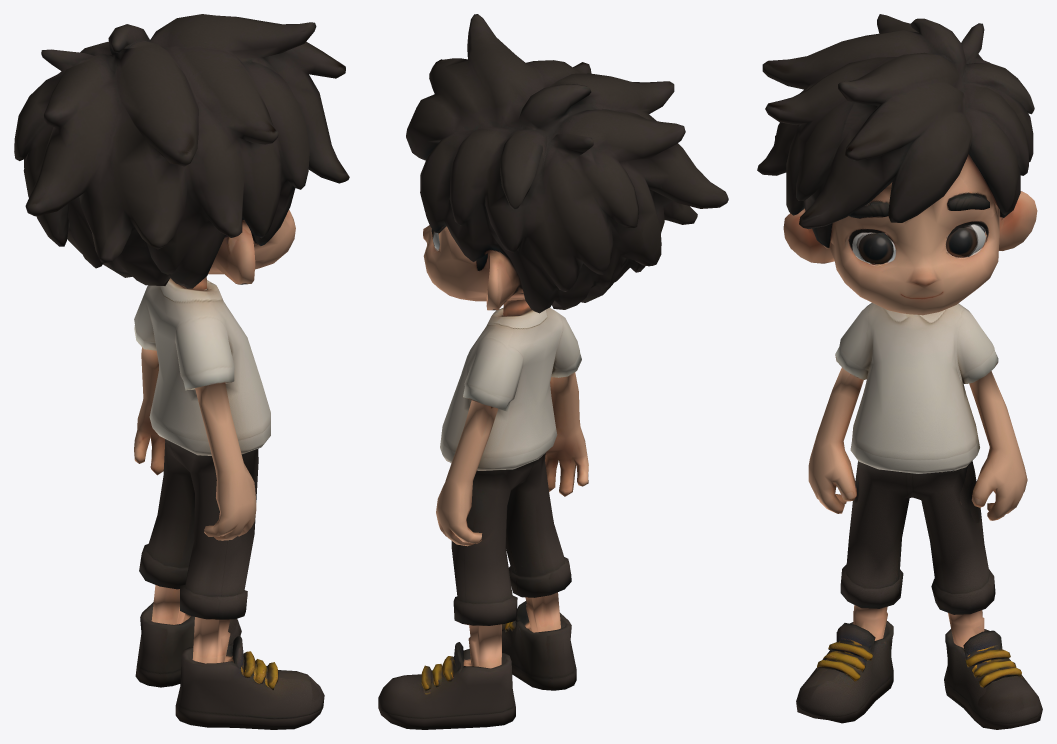
File: tile32.glb
The picture shows the model from 3 angles, left to right: view 1: azimuth 30°, elevation 25°; view 2: azimuth 150°, elevation 25°; view 3: azimuth 270°, elevation 25°; orthographic projection. The views are drawn at different scales.
Parts seen in each view (by area): view 1: tripo_node_fdc6b6a0-92a6-47af-82b7-ae9d8d85c8e0; view 2: tripo_node_fdc6b6a0-92a6-47af-82b7-ae9d8d85c8e0; view 3: tripo_node_fdc6b6a0-92a6-47af-82b7-ae9d8d85c8e0.
Part boxes in pixels (box(x1,y1,x2,y2)): tripo_node_fdc6b6a0-92a6-47af-82b7-ae9d8d85c8e0: box(14, 14, 349, 729); tripo_node_fdc6b6a0-92a6-47af-82b7-ae9d8d85c8e0: box(378, 14, 728, 729); tripo_node_fdc6b6a0-92a6-47af-82b7-ae9d8d85c8e0: box(757, 14, 1042, 729).
Bounding box in the file's own units: 0.9389 × 1.94 × 0.7792.
1 material, 1 textured.
